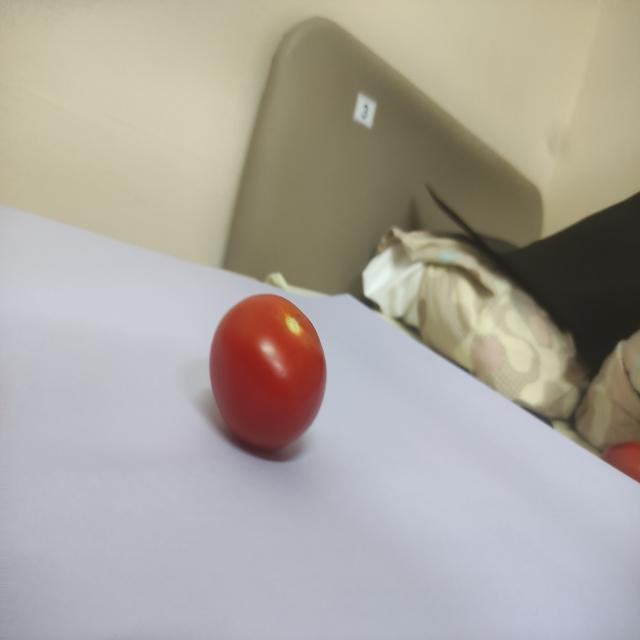kirmizi: (199, 286, 346, 459)
